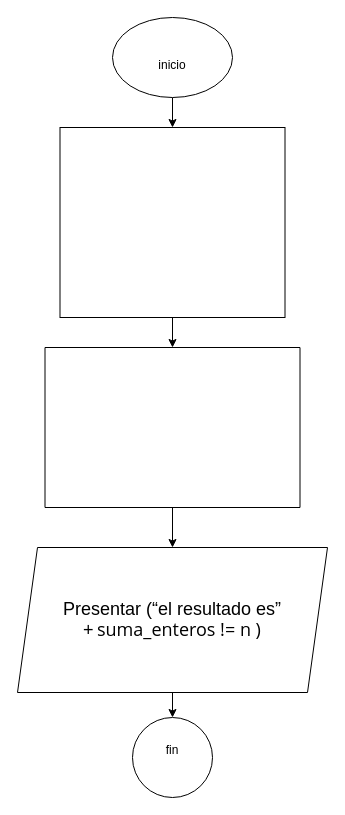
The diagram is 345 pixels wide and 815 high, and some of its shapes have lost their labels. The centre of each missing label's shape, as x and y in pixels:
n = 0 dato2 = 0.1 z = 0 N = 60 Dato2 = 0.1: (x=172, y=222)
Z = convertiraentero(dato2) Suma_enteros = (n + z) suma_enteros != n: (x=172, y=427)
